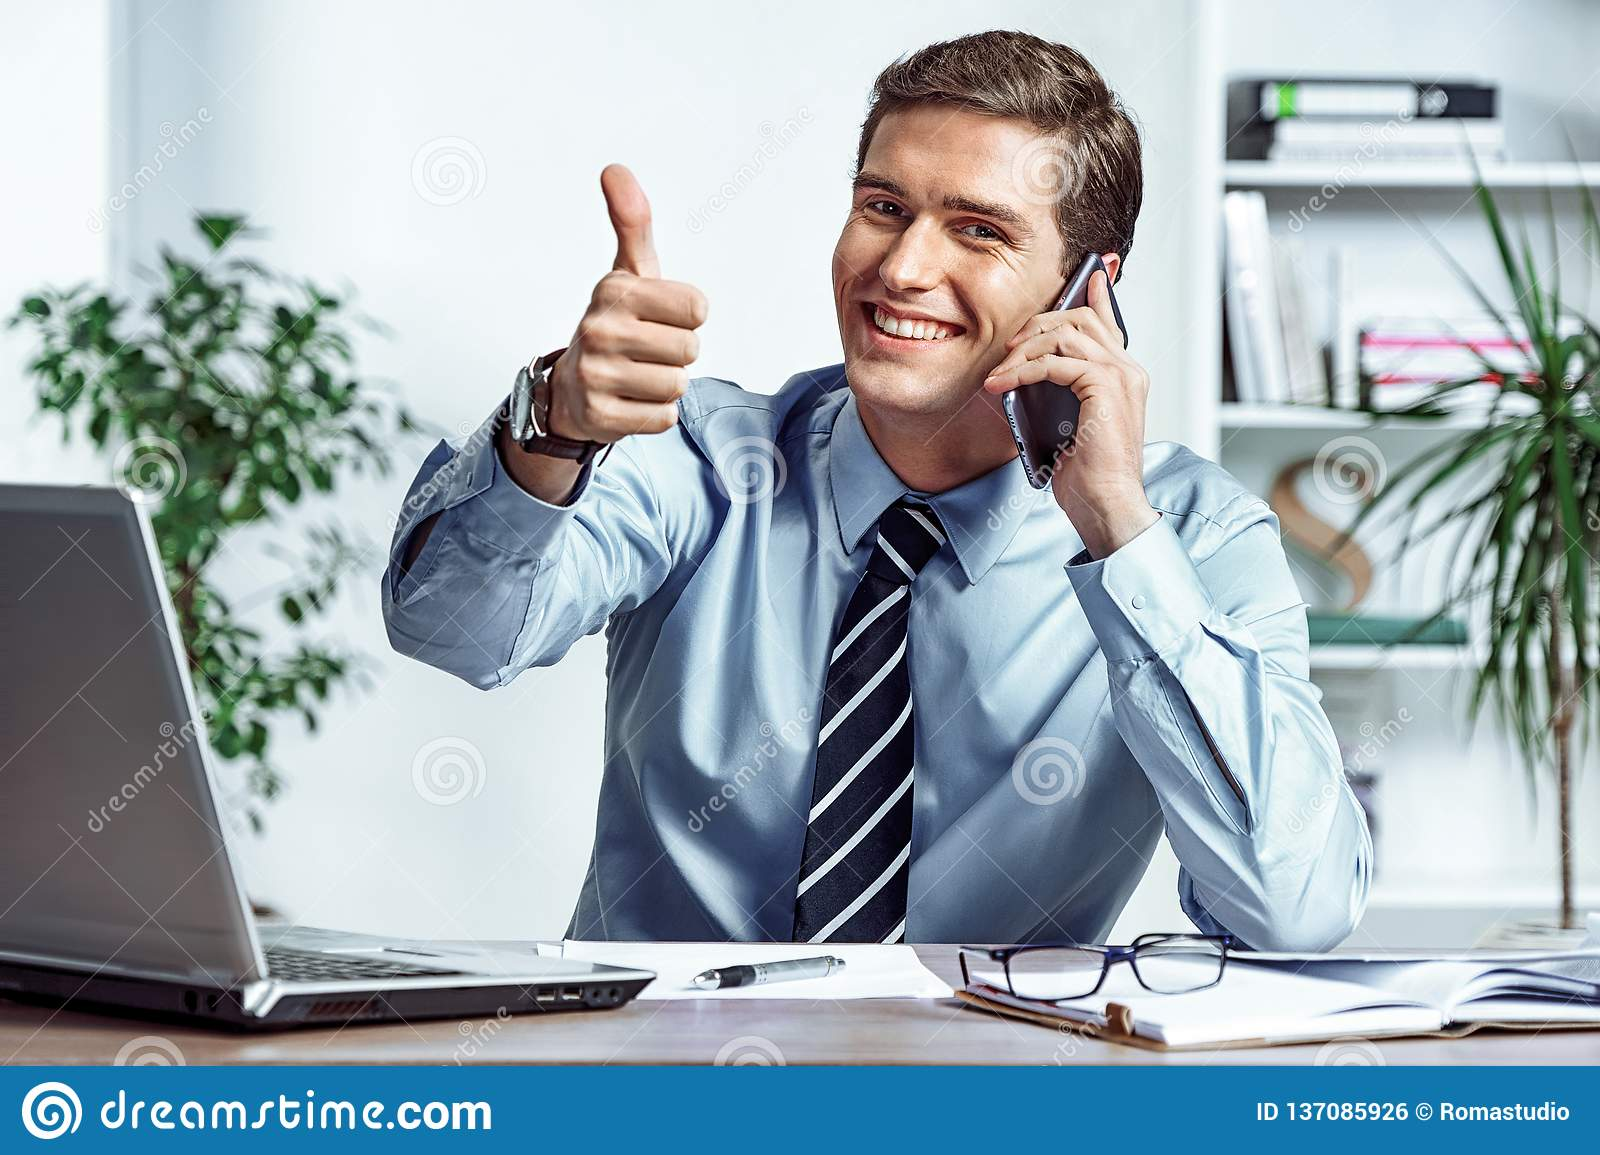phone: (1002, 255, 1127, 492)
talk: (832, 171, 1149, 543)
